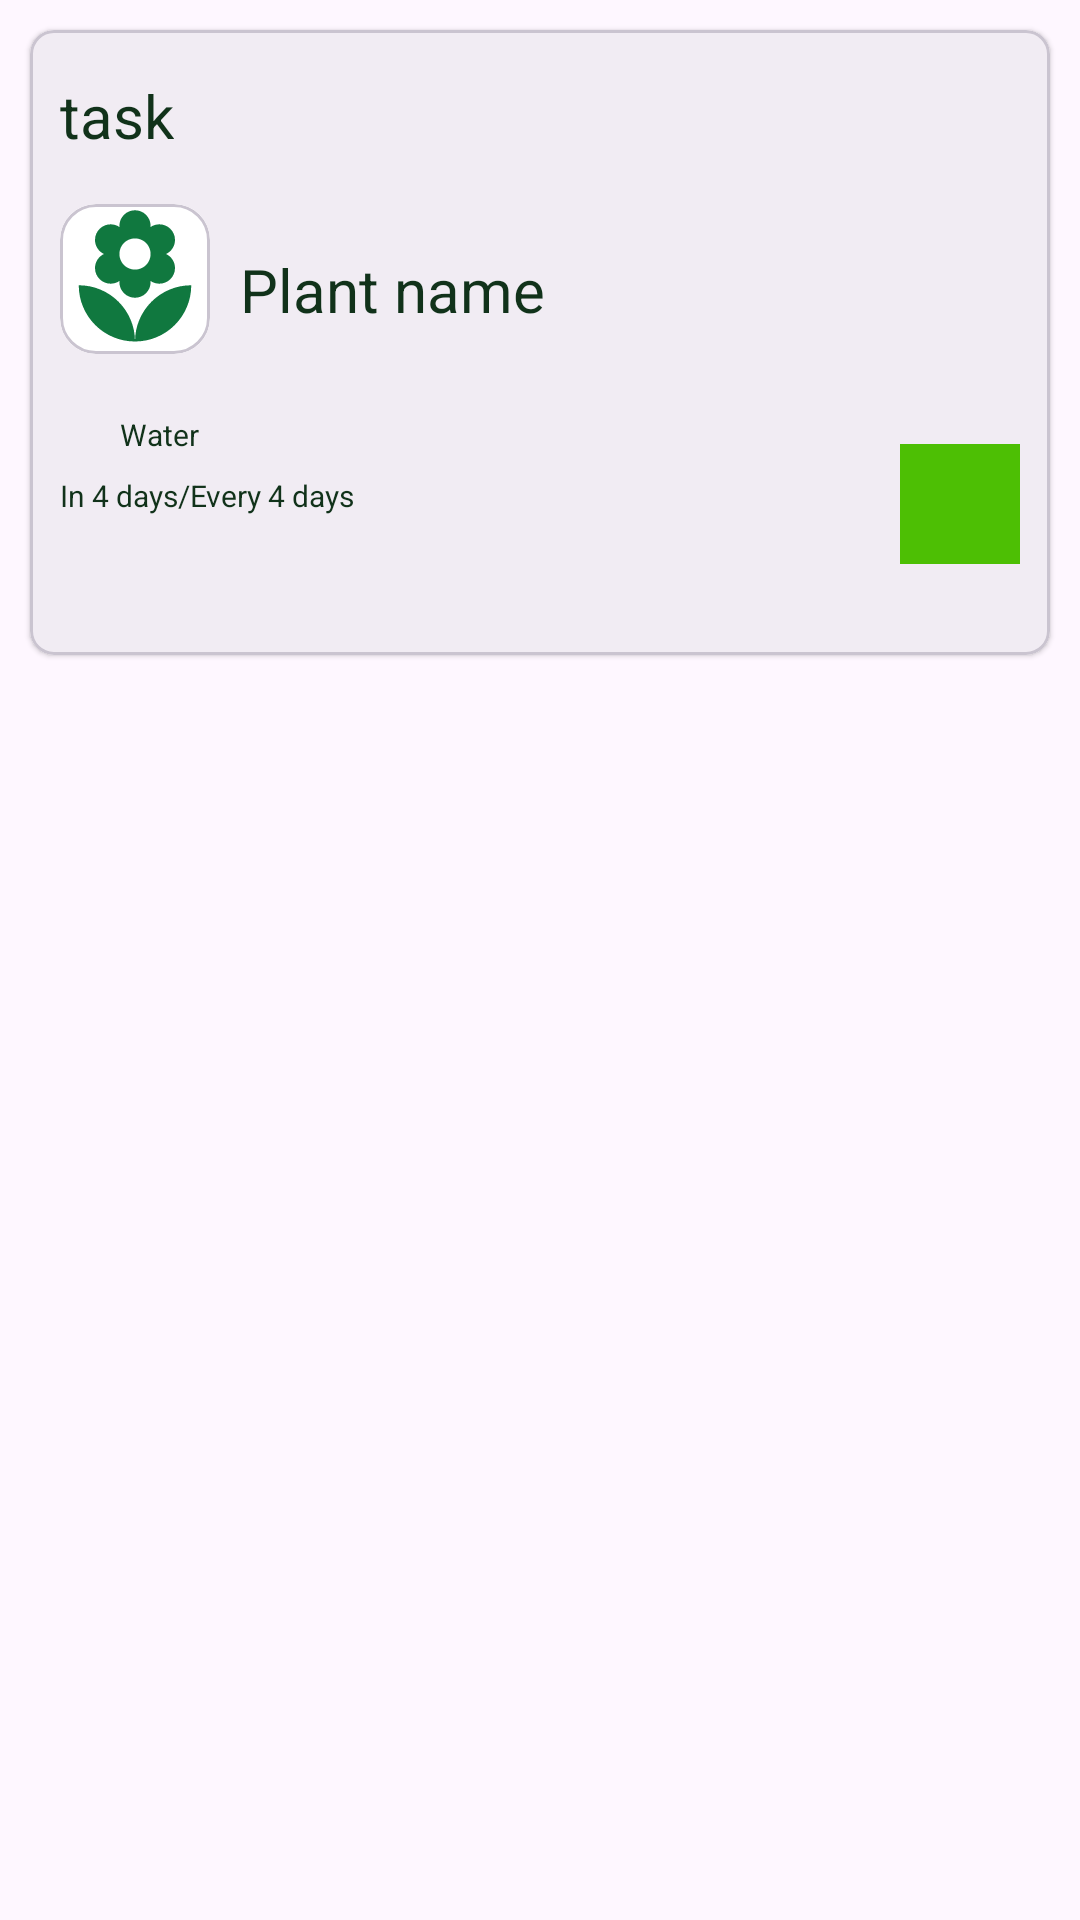

Named icons in this screenshot (1080 x 1920) and their bounding boxes, (x1, y1, x2, y2):
flower: (60, 204, 210, 354)
